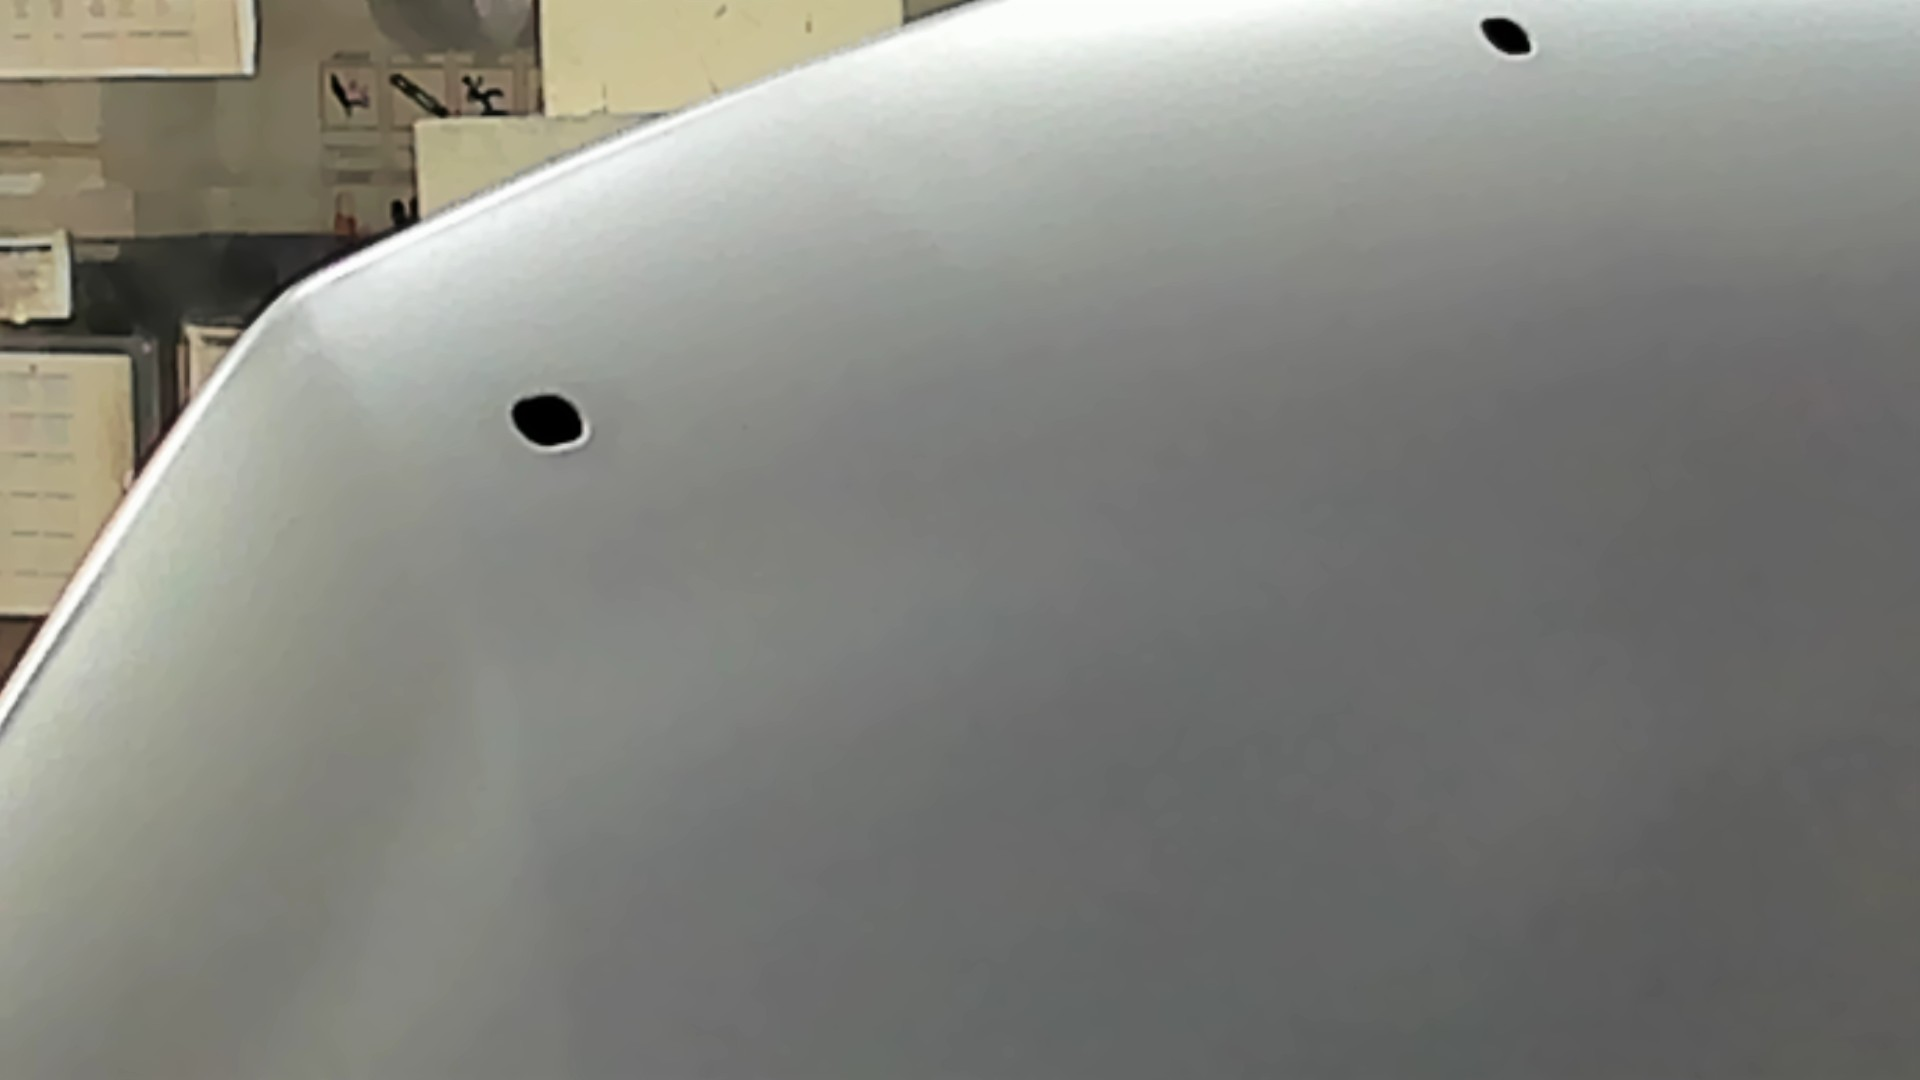amorfo: (500, 382, 597, 455), (1473, 11, 1542, 65)
